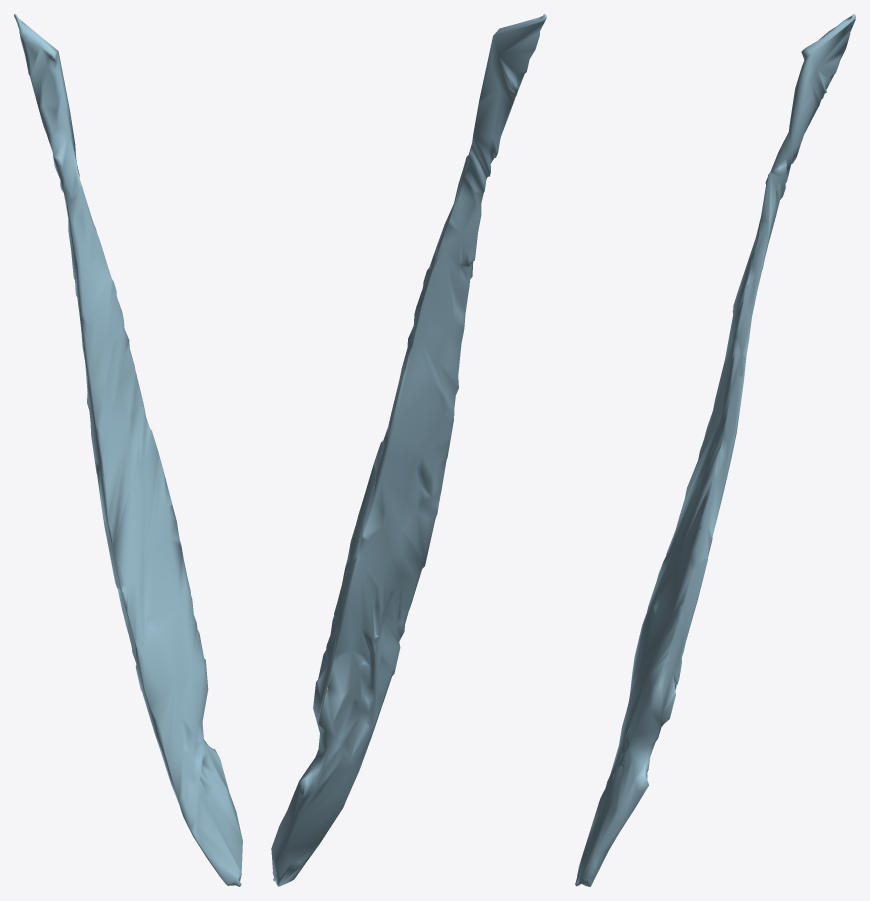
File: articulacoes-interosseous-membrane-of-forearm-l.glb
3 renders of one model, left to right at view 1: azimuth 30°, elevation 25°; view 2: azimuth 210°, elevation 25°; view 3: azimuth 270°, elevation 25°, orthographic. The views are drawn at different scales.
Parts seen in each view (by area): view 1: Interosseous membrane of forearm.l; view 2: Interosseous membrane of forearm.l; view 3: Interosseous membrane of forearm.l.
Boxes of the visible parts, x1=… form: Interosseous membrane of forearm.l: x1=14, y1=14, x2=242, y2=886; Interosseous membrane of forearm.l: x1=271, y1=14, x2=546, y2=886; Interosseous membrane of forearm.l: x1=575, y1=14, x2=855, y2=886.
Size of the model in its own units: 0.0225 by 0.1615 by 0.0497.
